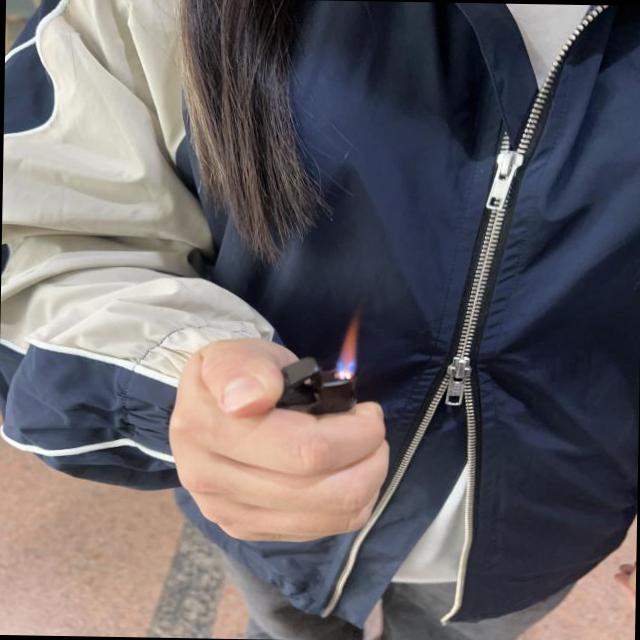Fire: (335, 300, 362, 380)
